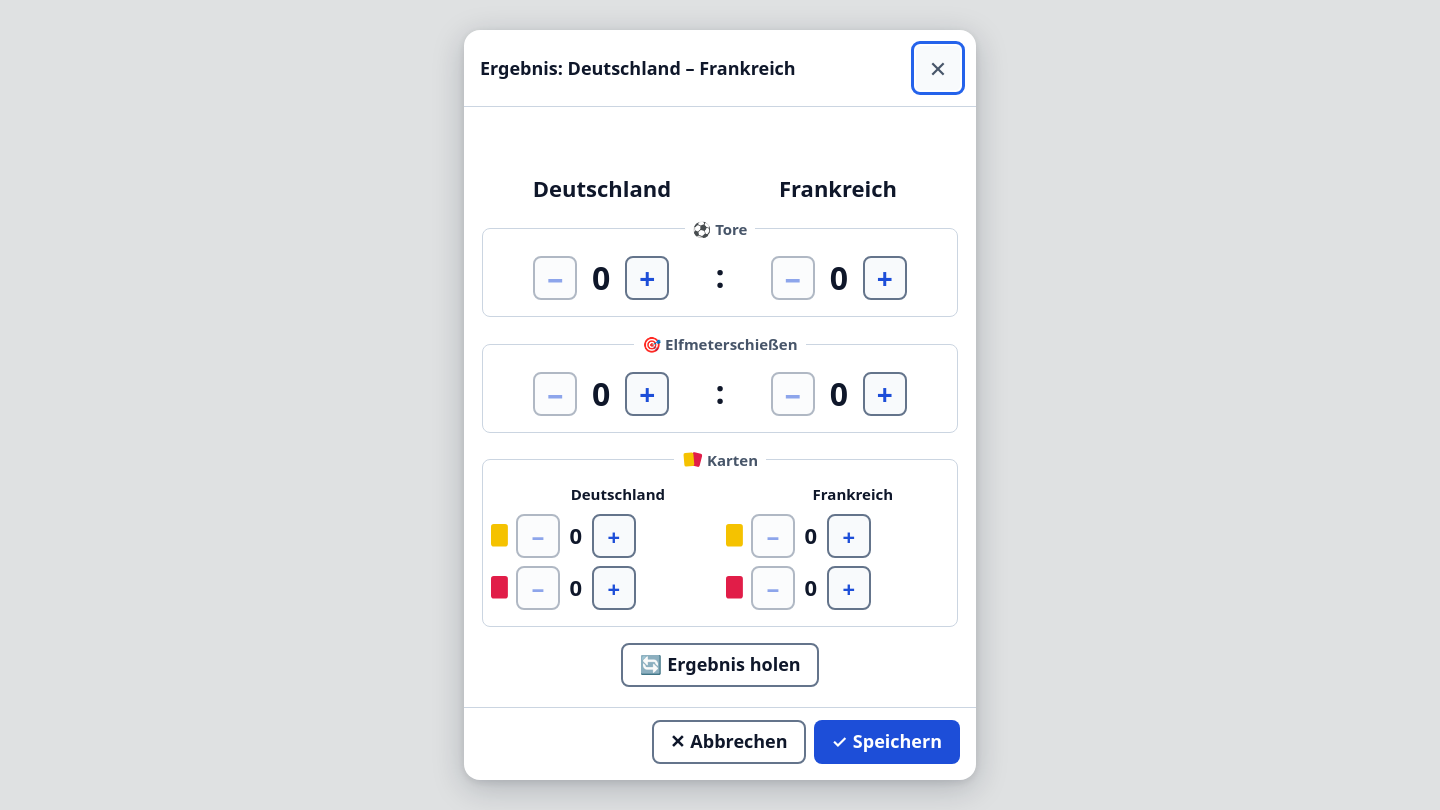
Test case: ScoreDialog › knockout draw validation › error reappears when scores return to a draw after differing
What coordinates should you click on to do the following:
click the button "✓ Speichern"
I would click on:
 (887, 742)
Its box is [814,720,960,764].
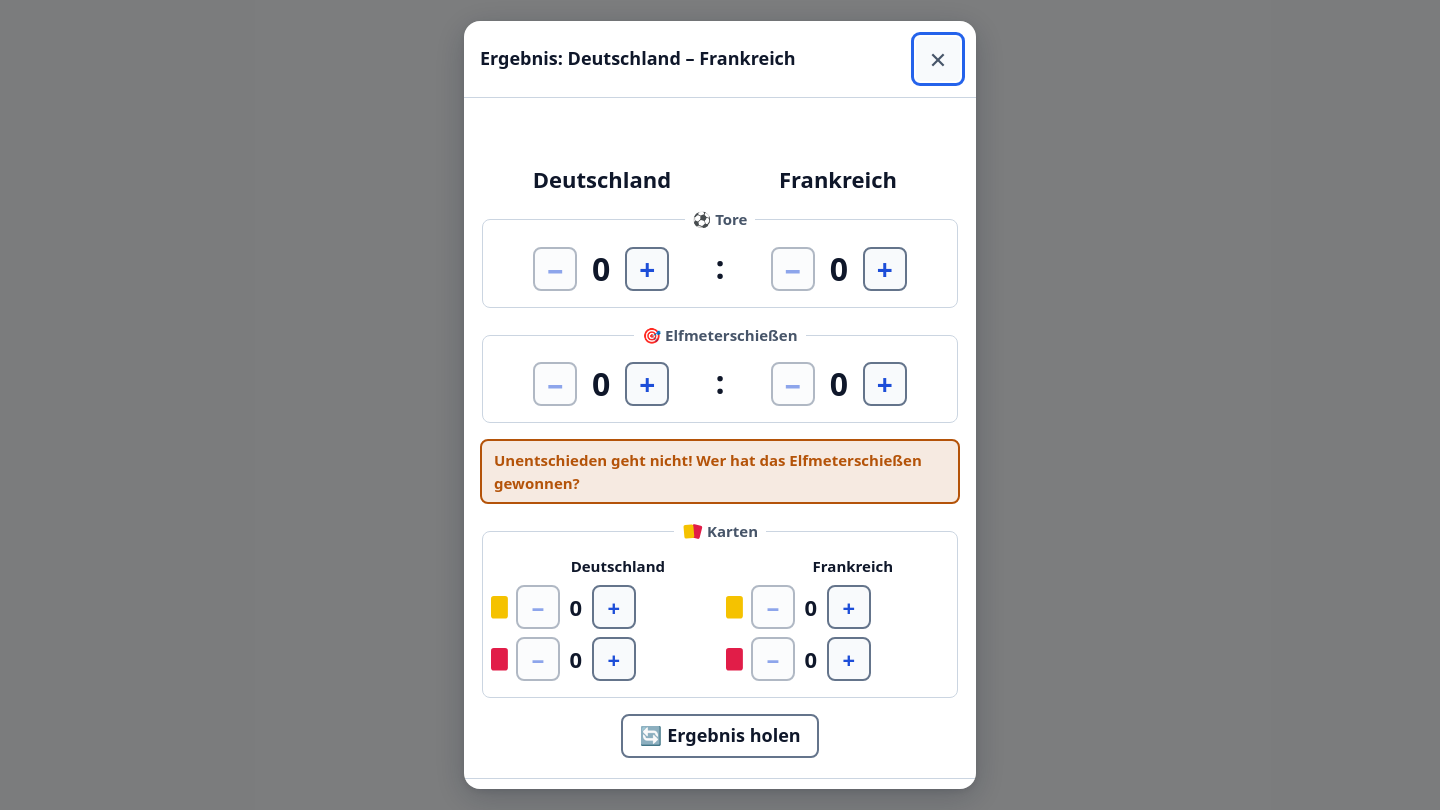
Expected: the message "Unentschieden geht nicht! Wer hat das Elfmeterschießen gewonnen?" is shown, [480,439,960,504]
What coordinates should you click on to do the following:
click the 1st button "+"
I would click on:
 (647, 269)
Its box is [625,247,669,291].
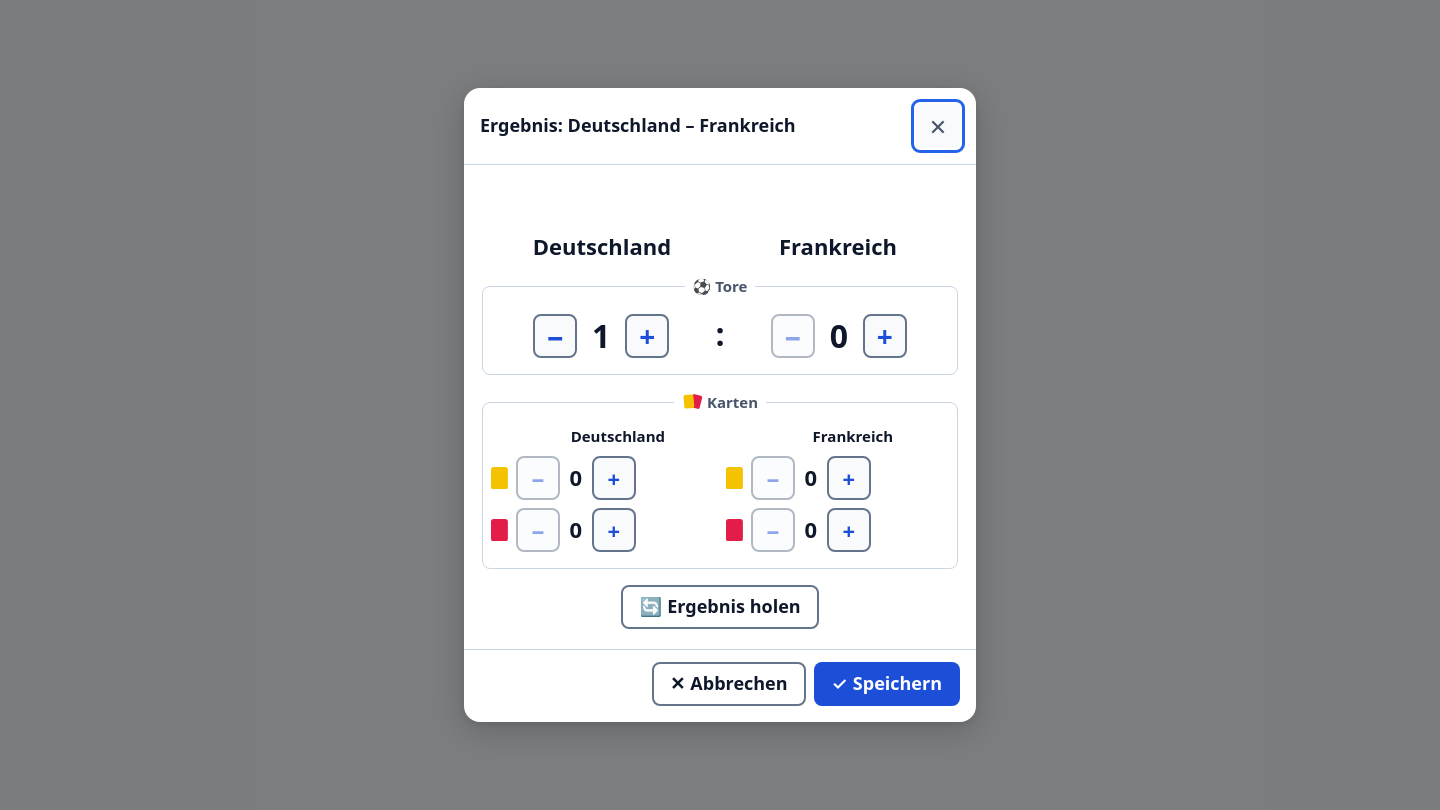
What coordinates should you click on to do the following:
click the 1st button "−"
I would click on:
 (555, 336)
Its box is [533,314,577,358].
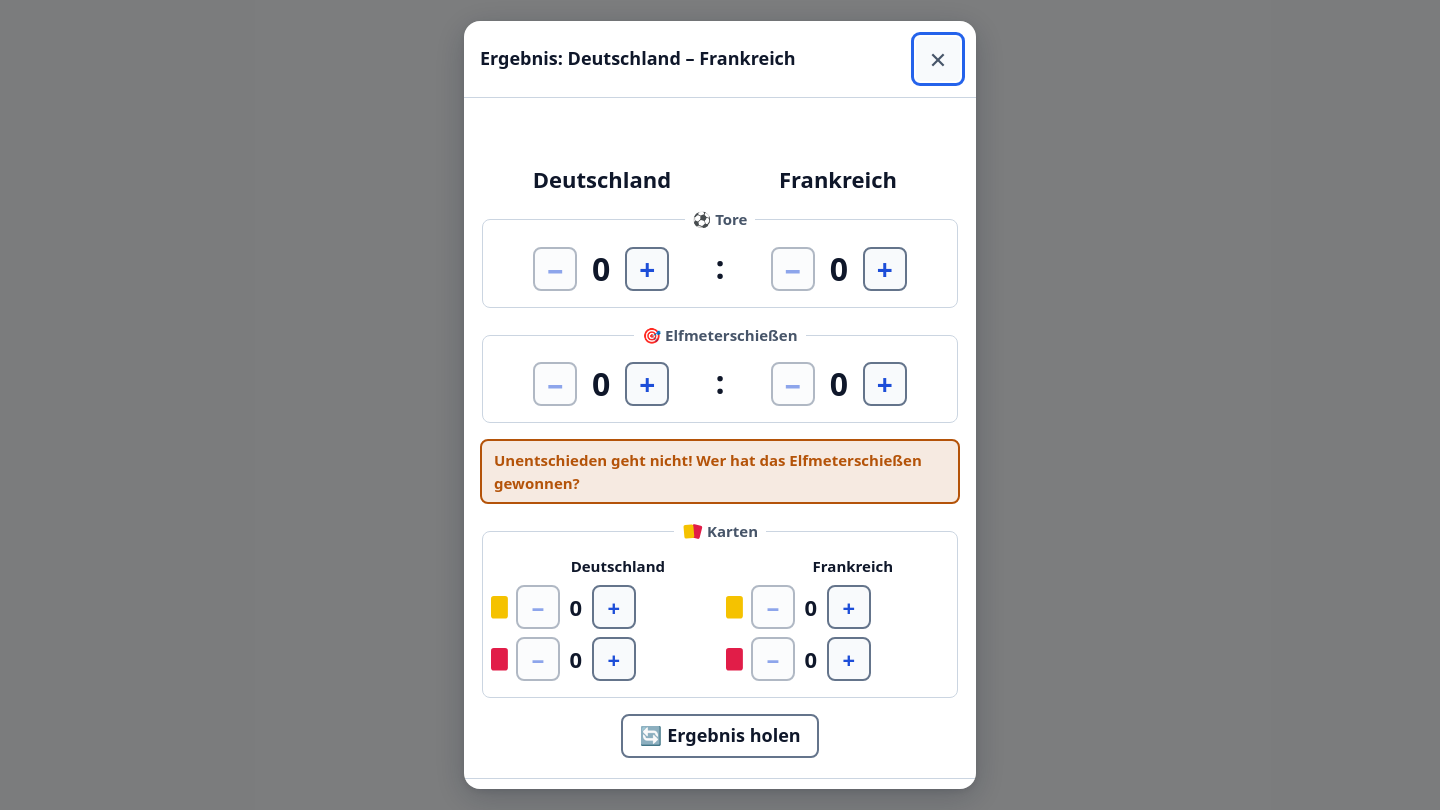
Expected: the message "Unentschieden geht nicht! Wer hat das Elfmeterschießen gewonnen?" is shown, [480,439,960,504]
